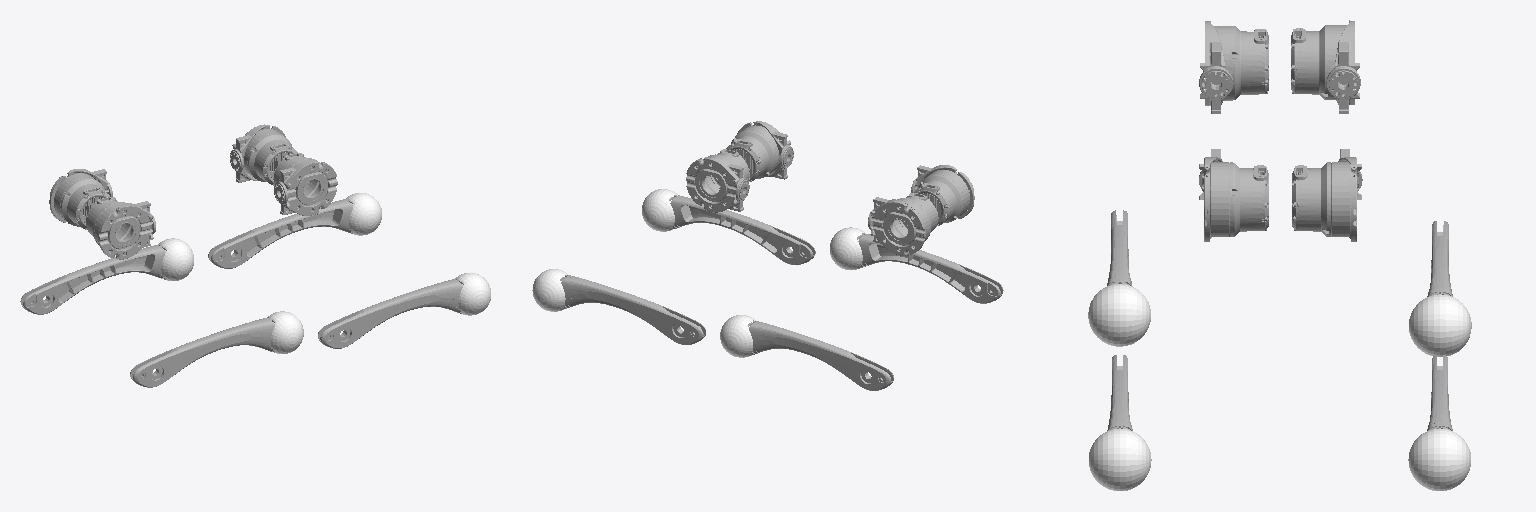
The robot description file, URDF, robot "CC1":
<?xml version="1.0" encoding="utf-8"?>
<robot
  name="CC1">
  <link
    name="TORSO">
    <inertial>
      <origin
        xyz="0.054652 -0.000292 0.045209"
        rpy="0 0 0" />
      <mass
        value="7.794" />
      <inertia
        ixx="0.015847"
        ixy="-9.3712E-05"
        ixz="-0.0015126"
        iyy="0.021604"
        iyz="4.6335E-05"
        izz="0.026694" />
    </inertial>
    <visual>
      <origin
        xyz="0 0 0"
        rpy="0 0 0" />
      <geometry>
        <mesh
          filename="../meshes/robot_dog_simplified.STL" />
      </geometry>
      <material
        name="">
        <color
          rgba="0.75294 0.75294 0.75294 1" />
      </material>
    </visual>
    <collision>
        <origin xyz="0.02 0 0.015" rpy="0 1.57 0"/>
        <geometry>
            <cylinder radius="0.095" length="0.35" />
        </geometry>
    </collision>
    <collision>
        <origin xyz="-0.17 0 0.015" rpy="0 1.57 0"/>
        <geometry>
            <sphere radius="0.09" />
        </geometry>
    </collision>
    <collision>
        <origin xyz="0.165 0 0.025" rpy="0 1.57 0"/>
        <geometry>
            <sphere radius="0.11" />
        </geometry>
    </collision>
    <collision>
        <origin xyz="-0.195 0 0.1" rpy="0 1.57 0"/>
        <geometry>
            <sphere radius="0.03" />
        </geometry>
    </collision>
    <collision>
        <origin xyz="0.26 0 -0.02" rpy="0 1.57 0"/>
        <geometry>
            <sphere radius="0.035" />
        </geometry>
    </collision>
    <collision>
        <origin xyz="0.21 0 0.13" rpy="0 0 0"/>
        <geometry>
            <cylinder radius="0.065" length="0.15" />
        </geometry>
    </collision>
    <collision>
        <origin xyz="0.21 0 0.25" rpy="0 0 0"/>
        <geometry>
            <sphere radius="0.075" />
        </geometry>
    </collision>
    <collision>
        <origin xyz="0.164 0.07 0.295" rpy="0 0 0"/>
        <geometry>
            <sphere radius="0.025" />
        </geometry>
    </collision>
    <collision>
        <origin xyz="0.164 -0.07 0.295" rpy="0 0 0"/>
        <geometry>
            <sphere radius="0.025" />
        </geometry>
    </collision>
  </link>
  <link
    name="FL_HIP">
    <inertial>
      <origin
        xyz="-0.00242 -0.02418 0.00018"
        rpy="0 0 0" />
      <mass
        value="0.668" />
      <inertia
        ixx="8.6098E-05"
        ixy="-6.2639E-06"
        ixz="4.2573E-08"
        iyy="0.0001737"
        iyz="5.8218E-08"
        izz="0.00010131" />
    </inertial>
    <visual>
      <origin
        xyz="0 0 0"
        rpy="0 0 0" />
      <geometry>
        <mesh
          filename="../meshes/fl_hip.STL" />
      </geometry>
      <material
        name="">
        <color
          rgba="0.75294 0.75294 0.75294 1" />
      </material>
    </visual>
    <!-- <collision>
      <origin
        xyz="0 0 0"
        rpy="0 0 0" />
      <geometry>
        <mesh
          filename="../meshes/fl_hip.STL" />
      </geometry>
    </collision> -->
    <collision>
        <origin xyz="0 0.07 0" rpy="1.57 0 0"/>
        <geometry>
            <cylinder radius="0.042" length="0.08" />
        </geometry>
    </collision>
  </link>
  <joint
    name="FL_HipX_joint"
    type="revolute">
    <origin
      xyz="0.16089 0.0767 0"
      rpy="0 0 0" />
    <parent
      link="TORSO" />
    <child
      link="FL_HIP" />
    <axis
      xyz="-1 0 0" />
    <limit
      lower="-0.698"
      upper="0.5236"
      effort="46"
      velocity="29" />
    <dynamics
      damping="0.03"
      friction="0.01" />
  </joint>
  <link
    name="FL_THIGH">
    <inertial>
      <origin
        xyz="-0.0034 -0.02856 -0.0333"
        rpy="0 0 0" />
      <mass
        value="1.291" />
      <inertia
        ixx="0.0022032"
        ixy="2.0678E-08"
        ixz="-0.00011021"
        iyy="0.0025033"
        iyz="-2.4395E-05"
        izz="0.00036638" />
    </inertial>
    <visual>
      <origin
        xyz="0 0 0"
        rpy="0 0 0" />
      <geometry>
        <mesh
          filename="../meshes/fl_thigh.STL" />
      </geometry>
      <material
        name="">
        <color
          rgba="0.75294 0.75294 0.75294 1" />
      </material>
    </visual>
    <!-- <collision>
      <origin
        xyz="0 0 0"
        rpy="0 0 0" />
      <geometry>
        <mesh
          filename="../meshes/fl_thigh.STL" />
      </geometry>
    </collision> -->
    <collision>
        <origin xyz="-0.012 0.0055 -0.05" rpy="1.57 0.3 0"/>
        <geometry>
            <box size="0.07 0.14 0.05" />
        </geometry>
    </collision>
    <collision>
        <origin xyz="-0.02 0.0055 -0.16" rpy="1.57 -0.45 0"/>
        <geometry>
            <box size="0.055 0.12 0.04" />
        </geometry>
    </collision>
  </link>
  <joint
    name="FL_HipY_joint"
    type="revolute">
    <origin
      xyz="0 0.0855 0"
      rpy="0 0 0" />
    <parent
      link="FL_HIP" />
    <child
      link="FL_THIGH" />
    <axis
      xyz="0 -1 0" />
    <limit
      lower="-2.792"
      upper="1.57"
      effort="46"
      velocity="29" />
    <dynamics
      damping="0.03"
      friction="0.01" />
  </joint>
  <link
    name="FL_SHANK">
    <inertial>
      <origin
        xyz="0.00356 0.0006726 -0.13678"
        rpy="0 0 0" />
      <mass
        value="0.18211" />
      <inertia
        ixx="0.00075917"
        ixy="-7.684E-07"
        ixz="3.526E-05"
        iyy="0.00078539"
        iyz="1.8758E-06"
        izz="3.9968E-05" />
    </inertial>
    <visual>
      <origin
        xyz="0 0 0"
        rpy="0 0 0" />
      <geometry>
        <mesh
          filename="../meshes/fl_shank.STL" />
      </geometry>
      <material
        name="">
        <color
          rgba="0.75294 0.75294 0.75294 1" />
      </material>
    </visual>
    <!-- <collision>
      <origin
        xyz="0 0 0"
        rpy="0 0 0" />
      <geometry>
        <mesh
          filename="../meshes/fl_shank.STL" />
      </geometry>
    </collision> -->
    <collision>
        <origin xyz="0.0095 0.00 -0.1" rpy="0 0 0"/>
        <geometry>
            <box size="0.04 0.018 0.21" />
        </geometry>
    </collision>
  </link>
  <joint
    name="FL_Knee_joint"
    type="revolute">
    <origin
      xyz="0 0 -0.2"
      rpy="0 0 0" />
    <parent
      link="FL_THIGH" />
    <child
      link="FL_SHANK" />
    <axis
      xyz="0 -1 0" />
    <limit
      lower="0.5236"
      upper="2.7225"
      effort="59"
      velocity="21" />
    <dynamics
      damping="0.03"
      friction="0.01" />
  </joint>

  <link name="FL_FOOT">  
    <inertial>  
      <mass value="0.06" /> 
      <inertia ixx="1E-12" ixy="0" ixz="0" iyy="1E-12" iyz="0" izz="1E-12" />  
    </inertial>  
    <collision>  
      <geometry>  
        <sphere radius="0.032"/>  
      </geometry>  
    </collision>  
        <visual>
      <origin rpy="1.57079632679 0 0" xyz="0 0 0"/>
      <geometry>
        <sphere radius="0.032"/>
      </geometry>
      <material name="">
        <color rgba="1 1 1 1" />
      </material>
    </visual>
  </link>  
  
  <joint name="FL_Ankle" type="fixed" dont_collapse="true">  
    <origin xyz="0 0 -0.22"/>  
    <parent link="FL_SHANK" />  
    <child link="FL_FOOT" />  
  </joint> 
  <link
    name="FR_HIP">
    <inertial>
      <origin
        xyz="-0.00242 0.02418 0.00018"
        rpy="0 0 0" />
      <mass
        value="0.668" />
      <inertia
        ixx="8.6098E-05"
        ixy="6.3852E-06"
        ixz="-4.2573E-08"
        iyy="0.0001737"
        iyz="-6.2018E-08"
        izz="0.00010131" />
    </inertial>
    <visual>
      <origin
        xyz="0 0 0"
        rpy="0 0 0" />
      <geometry>
        <mesh
          filename="../meshes/fr_hip.STL" />
      </geometry>
      <material
        name="">
        <color
          rgba="0.75294 0.75294 0.75294 1" />
      </material>
    </visual>
    <!-- <collision>
      <origin
        xyz="0 0 0"
        rpy="0 0 0" />
      <geometry>
        <mesh
          filename="../meshes/fr_hip.STL" />
      </geometry>
    </collision> -->
    <collision>
        <origin xyz="0 -0.07 0" rpy="1.57 0 0"/>
        <geometry>
            <cylinder radius="0.042" length="0.08" />
        </geometry>
    </collision>
  </link>
  <joint
    name="FR_HipX_joint"
    type="revolute">
    <origin
      xyz="0.16089 -0.0767 0"
      rpy="0 0 0" />
    <parent
      link="TORSO" />
    <child
      link="FR_HIP" />
    <axis
      xyz="-1 0 0" />
    <limit
      lower="-0.5236"
      upper="0.698"
      effort="46"
      velocity="29" />
    <dynamics
      damping="0.03"
      friction="0.01" />
  </joint>
  <link
    name="FR_THIGH">
    <inertial>
      <origin
        xyz="-0.00464 0.02702 -0.03438"
        rpy="0 0 0" />
      <mass
        value="1.297" />
      <inertia
        ixx="0.0022029"
        ixy="3.3146E-07"
        ixz="-0.00011149"
        iyy="0.002503"
        iyz="2.4433E-05"
        izz="0.00036636" />
    </inertial>
    <visual>
      <origin
        xyz="0 0 0"
        rpy="0 0 0" />
      <geometry>
        <mesh
          filename="../meshes/fr_thigh.STL" />
      </geometry>
      <material
        name="">
        <color
          rgba="0.75294 0.75294 0.75294 1" />
      </material>
    </visual>
    <!-- <collision>
      <origin
        xyz="0 0 0"
        rpy="0 0 0" />
      <geometry>
        <mesh
          filename="../meshes/fr_thigh.STL" />
      </geometry>
    </collision> -->
    <collision>
        <origin xyz="-0.012 0.0055 -0.05" rpy="1.57 0.3 0"/>
        <geometry>
            <box size="0.07 0.14 0.05" />
        </geometry>
    </collision>
    <collision>
        <origin xyz="-0.02 0.0055 -0.16" rpy="1.57 -0.45 0"/>
        <geometry>
            <box size="0.055 0.12 0.04" />
        </geometry>
    </collision>
  </link>
  <joint
    name="FR_HipY_joint"
    type="revolute">
    <origin
      xyz="0 -0.085493 0"
      rpy="0 0 0" />
    <parent
      link="FR_HIP" />
    <child
      link="FR_THIGH" />
    <axis
      xyz="0 -1 0" />
    <limit
      lower="-2.792"
      upper="1.57"
      effort="46"
      velocity="29" />
    <dynamics
      damping="0.03"
      friction="0.01" />
  </joint>
  <link
    name="FR_SHANK">
    <inertial>
      <origin
        xyz="0.0035662 -0.00062306 -0.13683"
        rpy="0 0 0" />
      <mass
        value="0.18206" />
      <inertia
        ixx="0.0007587"
        ixy="7.7196E-07"
        ixz="3.5137E-05"
        iyy="0.0007849"
        iyz="-1.8954E-06"
        izz="3.9944E-05" />
    </inertial>
    <visual>
      <origin
        xyz="0 0 0"
        rpy="0 0 0" />
      <geometry>
        <mesh
          filename="../meshes/fr_shank.STL" />
      </geometry>
      <material
        name="">
        <color
          rgba="0.75294 0.75294 0.75294 1" />
      </material>
    </visual>
    <!-- <collision>
      <origin
        xyz="0 0 0"
        rpy="0 0 0" />
      <geometry>
        <mesh
          filename="../meshes/fr_shank.STL" />
      </geometry>
    </collision> -->
    <collision>
        <origin xyz="0.0095 0.00 -0.1" rpy="0 0 0"/>
        <geometry>
            <box size="0.04 0.018 0.21" />
        </geometry>
    </collision>
  </link>
  <joint
    name="FR_Knee_joint"
    type="revolute">
    <origin
      xyz="0 0 -0.2"
      rpy="0 0 0" />
    <parent
      link="FR_THIGH" />
    <child
      link="FR_SHANK" />
    <axis
      xyz="0 -1 0" />
    <limit
      lower="0.5236"
      upper="2.7225"
      effort="59"
      velocity="21" />
    <dynamics
      damping="0.03"
      friction="0.01" />
  </joint>

  <link name="FR_FOOT">  
    <inertial>  
      <mass value="0.06" /> 
      <inertia ixx="1E-12" ixy="0" ixz="0" iyy="1E-12" iyz="0" izz="1E-12" />  
    </inertial>  
    <collision>  
      <geometry>  
        <sphere radius="0.032"/>  
      </geometry>  
    </collision>  
    <visual>
      <origin rpy="1.57079632679 0 0" xyz="0 0 0"/>
      <geometry>
        <sphere radius="0.032"/>
      </geometry>
      <material name="">
        <color rgba="1 1 1 1" />
      </material>
    </visual>
  </link>  
  
  <joint name="FR_Ankle" type="fixed" dont_collapse="true">  
    <origin xyz="0 0 -0.22"/>  
    <parent link="FR_SHANK" />  
    <child link="FR_FOOT" />  
  </joint> 
  <link
    name="HL_HIP">
    <inertial>
      <origin
        xyz="-0.00242 -0.02418 0.00018"
        rpy="0 0 0" />
      <mass
        value="0.668" />
      <inertia
        ixx="8.6098E-05"
        ixy="6.3852E-06"
        ixz="4.2573E-08"
        iyy="0.0001737"
        iyz="6.2018E-08"
        izz="0.00010131" />
    </inertial>
    <visual>
      <origin
        xyz="0 0 0"
        rpy="0 0 0" />
      <geometry>
        <mesh
          filename="../meshes/hl_hip.STL" />
      </geometry>
      <material
        name="">
        <color
          rgba="0.75294 0.75294 0.75294 1" />
      </material>
    </visual>
    <!-- <collision>
      <origin
        xyz="0 0 0"
        rpy="0 0 0" />
      <geometry>
        <mesh
          filename="../meshes/hl_hip.STL" />
      </geometry>
    </collision> -->
    <collision>
        <origin xyz="0 0.07 0" rpy="1.57 0 0"/>
        <geometry>
            <cylinder radius="0.042" length="0.08" />
        </geometry>
    </collision>
  </link>
  <joint
    name="HL_HipX_joint"
    type="revolute">
    <origin
      xyz="-0.16088 0.076239 0.0032508"
      rpy="0 0 0" />
    <parent
      link="TORSO" />
    <child
      link="HL_HIP" />
    <axis
      xyz="-1 0 0" />
    <limit
      lower="-0.698"
      upper="0.5236"
      effort="46"
      velocity="29" />
    <dynamics
      damping="0.03"
      friction="0.01" />
  </joint>
  <link
    name="HL_THIGH">
    <inertial>
      <origin
        xyz="-0.0034 -0.02856 -0.0333"
        rpy="0 0 0" />
      <mass
        value="1.291" />
      <inertia
        ixx="0.0022033"
        ixy="-8.9938E-07"
        ixz="-0.00011017"
        iyy="0.0025036"
        iyz="-2.5629E-05"
        izz="0.0003667" />
    </inertial>
    <visual>
      <origin
        xyz="0 0 0"
        rpy="0 0 0" />
      <geometry>
        <mesh
          filename="../meshes/hl_thigh.STL" />
      </geometry>
      <material
        name="">
        <color
          rgba="0.75294 0.75294 0.75294 1" />
      </material>
    </visual>
    <!-- <collision>
      <origin
        xyz="0 0 0"
        rpy="0 0 0" />
      <geometry>
        <mesh
          filename="../meshes/hl_thigh.STL" />
      </geometry>
    </collision> -->
    <collision>
        <origin xyz="-0.012 0.0055 -0.05" rpy="1.57 0.3 0"/>
        <geometry>
            <box size="0.07 0.14 0.05" />
        </geometry>
    </collision>
    <collision>
        <origin xyz="-0.02 0.0055 -0.16" rpy="1.57 -0.45 0"/>
        <geometry>
            <box size="0.055 0.12 0.04" />
        </geometry>
    </collision>
  </link>
  <joint
    name="HL_HipY_joint"
    type="revolute">
    <origin
      xyz="0 0.086286 -0.0032508"
      rpy="0 0 0" />
    <parent
      link="HL_HIP" />
    <child
      link="HL_THIGH" />
    <axis
      xyz="0 -1 0" />
    <limit
      lower="-2.792"
      upper="1.57"
      effort="46"
      velocity="29" />
    <dynamics
      damping="0.03"
      friction="0.01" />
  </joint>
  <link
    name="HL_SHANK">
    <inertial>
      <origin
        xyz="0.0035588 0.00067259 -0.13678"
        rpy="0 0 0" />
      <mass
        value="0.18211" />
      <inertia
        ixx="0.00075917"
        ixy="-7.6834E-07"
        ixz="3.526E-05"
        iyy="0.00078539"
        iyz="1.8757E-06"
        izz="3.9969E-05" />
    </inertial>
    <visual>
      <origin
        xyz="0 0 0"
        rpy="0 0 0" />
      <geometry>
        <mesh
          filename="../meshes/hl_shank.STL" />
      </geometry>
      <material
        name="">
        <color
          rgba="0.75294 0.75294 0.75294 1" />
      </material>
    </visual>
    <!-- <collision>
      <origin
        xyz="0 0 0"
        rpy="0 0 0" />
      <geometry>
        <mesh
          filename="../meshes/hl_shank.STL" />
      </geometry>
    </collision> -->
    <collision>
        <origin xyz="0.0095 0.00 -0.1" rpy="0 0 0"/>
        <geometry>
            <box size="0.04 0.018 0.21" />
        </geometry>
    </collision>
  </link>
  <joint
    name="HL_Knee_joint"
    type="revolute">
    <origin
      xyz="0 0 -0.2"
      rpy="0 0 0" />
    <parent
      link="HL_THIGH" />
    <child
      link="HL_SHANK" />
    <axis
      xyz="0 -1 0" />
    <limit
      lower="0.5236"
      upper="2.7225"
      effort="59"
      velocity="21" />
    <dynamics
      damping="0.03"
      friction="0.01" />
  </joint>

  <link name="HL_FOOT">  
    <inertial>  
      <mass value="0.06" />  
      <inertia ixx="1E-12" ixy="0" ixz="0" iyy="1E-12" iyz="0" izz="1E-12" />  
    </inertial>  
    <collision>  
      <geometry>  
        <sphere radius="0.032"/>  
      </geometry>  
    </collision>  
      <visual>
      <origin rpy="1.57079632679 0 0" xyz="0 0 0"/>
      <geometry>
        <sphere radius="0.032"/>
      </geometry>
      <material name="">
        <color rgba="1 1 1 1" />
      </material>
    </visual>
  </link>  
  
  <joint name="HL_Ankle" type="fixed" dont_collapse="true">  
    <origin xyz="0 0 -0.22"/>  
    <parent link="HL_SHANK" />  
    <child link="HL_FOOT" />  
  </joint>
  <link
    name="HR_HIP">
    <inertial>
      <origin
        xyz="-0.00242 0.02418 0.00018"
        rpy="0 0 0" />
      <mass
        value="0.668" />
      <inertia
        ixx="8.6098E-05"
        ixy="-6.2639E-06"
        ixz="-4.2573E-08"
        iyy="0.0001737"
        iyz="-5.8218E-08"
        izz="0.00010131" />
    </inertial>
    <visual>
      <origin
        xyz="0 0 0"
        rpy="0 0 0" />
      <geometry>
        <mesh
          filename="../meshes/hr_hip.STL" />
      </geometry>
      <material
        name="">
        <color
          rgba="0.75294 0.75294 0.75294 1" />
      </material>
    </visual>
    <!-- <collision>
      <origin
        xyz="0 0 0"
        rpy="0 0 0" />
      <geometry>
        <mesh
          filename="../meshes/hr_hip.STL" />
      </geometry>
    </collision> -->
    <collision>
        <origin xyz="0 -0.07 0" rpy="1.57 0 0"/>
        <geometry>
            <cylinder radius="0.042" length="0.08" />
        </geometry>
    </collision>
  </link>
  <joint
    name="HR_HipX_joint"
    type="revolute">
    <origin
      xyz="-0.16088 -0.076306 0.0030093"
      rpy="0 0 0" />
    <parent
      link="TORSO" />
    <child
      link="HR_HIP" />
    <axis
      xyz="-1 0 0" />
    <limit
      lower="-0.5236"
      upper="0.698"
      effort="46"
      velocity="29" />
    <dynamics
      damping="0.03"
      friction="0.01" />
  </joint>
  <link
    name="HR_THIGH">
    <inertial>
      <origin
        xyz="-0.00464 0.02702 -0.03438"
        rpy="0 0 0" />
      <mass
        value="1.291" />
      <inertia
        ixx="0.0022028"
        ixy="4.9374E-07"
        ixz="-0.00010697"
        iyy="0.002503"
        iyz="2.5638E-05"
        izz="0.00036649" />
    </inertial>
    <visual>
      <origin
        xyz="0 0 0"
        rpy="0 0 0" />
      <geometry>
        <mesh
          filename="../meshes/hr_thigh.STL" />
      </geometry>
      <material
        name="">
        <color
          rgba="0.75294 0.75294 0.75294 1" />
      </material>
    </visual>
    <!-- <collision>
      <origin
        xyz="0 0 0"
        rpy="0 0 0" />
      <geometry>
        <mesh
          filename="../meshes/hr_thigh.STL" />
      </geometry>
    </collision> -->
    <collision>
        <origin xyz="-0.012 0.0055 -0.05" rpy="1.57 0.3 0"/>
        <geometry>
            <box size="0.07 0.14 0.05" />
        </geometry>
    </collision>
    <collision>
        <origin xyz="-0.02 0.0055 -0.16" rpy="1.57 -0.45 0"/>
        <geometry>
            <box size="0.055 0.12 0.04" />
        </geometry>
    </collision>
  </link>
  <joint
    name="HR_HipY_joint"
    type="revolute">
    <origin
      xyz="0 -0.086219 0.0"
      rpy="0 0 0" />
    <parent
      link="HR_HIP" />
    <child
      link="HR_THIGH" />
    <axis
      xyz="0 -1 0" />
    <limit
      lower="-2.792"
      upper="1.57"
      effort="46"
      velocity="29" />
    <dynamics
      damping="0.03"
      friction="0.01" />
  </joint>
  <link
    name="HR_SHANK">
    <inertial>
      <origin
        xyz="0.0035662 -0.00062307 -0.17246"
        rpy="0 0 0" />
      <mass
        value="0.18206" />
      <inertia
        ixx="0.0007587"
        ixy="7.7195E-07"
        ixz="3.5137E-05"
        iyy="0.0007849"
        iyz="-1.8954E-06"
        izz="3.9944E-05" />
    </inertial>
    <visual>
      <origin
        xyz="0 0 0"
        rpy="0 0 0" />
      <geometry>
        <mesh
          filename="../meshes/hr_shank.STL" />
      </geometry>
      <material
        name="">
        <color
          rgba="0.75294 0.75294 0.75294 1" />
      </material>
    </visual>
    <!-- <collision>
      <origin
        xyz="0 0 0"
        rpy="0 0 0" />
      <geometry>
        <mesh
          filename="../meshes/hr_shank.STL" />
      </geometry>
    </collision> -->
    <collision>
        <origin xyz="0.0095 0.00 -0.1" rpy="0 0 0"/>
        <geometry>
            <box size="0.04 0.018 0.21" />
        </geometry>
    </collision>
  </link>
  <joint
    name="HR_Knee_joint"
    type="revolute">
    <origin
      xyz="0 0 -0.19117"
      rpy="0 0 0" />
    <parent
      link="HR_THIGH" />
    <child
      link="HR_SHANK" />
    <axis
      xyz="0 -1 0" />
    <limit
      lower="0.5236"
      upper="2.7225"
      effort="59"
      velocity="21" />
    <dynamics
      damping="0.03"
      friction="0.01" />
  </joint>

  <link name="HR_FOOT">  
    <inertial>  
      <mass value="0.06" /> 
      <inertia ixx="1E-12" ixy="0" ixz="0" iyy="1E-12" iyz="0" izz="1E-12" />  
    </inertial>  
    <collision>  
      <geometry>  
        <sphere radius="0.032"/>  
      </geometry>  
    </collision>  
      <visual>
      <origin rpy="1.57079632679 0 0" xyz="0 0 0"/>
      <geometry>
        <sphere radius="0.032"/>
      </geometry>
      <material name="">
        <color rgba="1 1 1 1" />
      </material>
    </visual>
  </link>  
  
  <joint name="HR_Ankle" type="fixed" dont_collapse="true">  
    <origin xyz="0 0 -0.22"/>  
    <parent link="HR_SHANK" />  
    <child link="HR_FOOT" />  
  </joint> 
</robot>

--- Facts derived from the render (not from the file) ---
Views: 3 orthographic renders of the robot side by side, from view 1: azimuth 30°, elevation 25°; view 2: azimuth 150°, elevation 25°; view 3: azimuth 270°, elevation 25°.
Robot: CC1 — 17 links, 16 joints (12 revolute, 4 fixed); root link TORSO; default pose: joints at zero except 4 at the middle of their limits (FL_Knee_joint = 1.62, FR_Knee_joint = 1.62, HL_Knee_joint = 1.62, HR_Knee_joint = 1.62).
Links seen in each view (by area): view 1: FR_SHANK, HR_SHANK, HL_SHANK, HR_HIP, FL_SHANK, FR_HIP, FL_HIP, HL_HIP, FL_FOOT, HR_FOOT, HL_FOOT, FR_FOOT; view 2: HL_SHANK, FL_SHANK, HL_HIP, FR_SHANK, FL_HIP, HR_SHANK, FR_HIP, HR_HIP, HL_FOOT, FR_FOOT, HR_FOOT, FL_FOOT; view 3: FL_HIP, FR_HIP, HL_HIP, HR_HIP, HR_FOOT, FL_FOOT, FR_FOOT, HL_FOOT, HR_SHANK, HL_SHANK, FL_SHANK, FR_SHANK.
Boxes of the visible links, bbox=[...] form: FR_SHANK: bbox=[318, 278, 463, 348]; HR_SHANK: bbox=[130, 317, 275, 387]; HL_SHANK: bbox=[20, 244, 166, 314]; HR_HIP: bbox=[86, 197, 155, 259]; FL_SHANK: bbox=[208, 198, 354, 268]; FR_HIP: bbox=[274, 153, 337, 215]; FL_HIP: bbox=[230, 124, 297, 185]; HL_HIP: bbox=[49, 169, 112, 229]; FL_FOOT: bbox=[346, 193, 381, 235]; HR_FOOT: bbox=[267, 311, 303, 353]; HL_FOOT: bbox=[158, 238, 193, 280]; FR_FOOT: bbox=[455, 273, 490, 315]; HL_SHANK: bbox=[748, 320, 893, 390]; FL_SHANK: bbox=[560, 275, 705, 344]; HL_HIP: bbox=[868, 193, 937, 255]; FR_SHANK: bbox=[669, 195, 815, 264]; FL_HIP: bbox=[686, 149, 749, 212]; HR_SHANK: bbox=[857, 233, 1003, 303]; FR_HIP: bbox=[726, 121, 793, 181]; HR_HIP: bbox=[911, 165, 974, 226]; HL_FOOT: bbox=[720, 315, 755, 357]; FR_FOOT: bbox=[642, 189, 677, 231]; HR_FOOT: bbox=[830, 227, 865, 269]; FL_FOOT: bbox=[532, 269, 567, 311]; FL_HIP: bbox=[1292, 149, 1362, 241]; FR_HIP: bbox=[1199, 149, 1268, 241]; HL_HIP: bbox=[1291, 20, 1360, 113]; HR_HIP: bbox=[1199, 21, 1268, 113]; HR_FOOT: bbox=[1088, 284, 1150, 346]; FL_FOOT: bbox=[1408, 428, 1470, 490]; FR_FOOT: bbox=[1089, 428, 1151, 490]; HL_FOOT: bbox=[1409, 294, 1471, 356]; HR_SHANK: bbox=[1107, 210, 1131, 285]; HL_SHANK: bbox=[1427, 221, 1452, 296]; FL_SHANK: bbox=[1427, 355, 1452, 430]; FR_SHANK: bbox=[1107, 355, 1132, 430].
Bounding box of the posed robot: 0.6164 × 0.3891 × 0.2701 m (x, y, z).
Meshes: 13 distinct files referenced, 8 mesh visuals loaded (8 binary STL); not drawn: 5 (reference not matched to a file when rendering).
